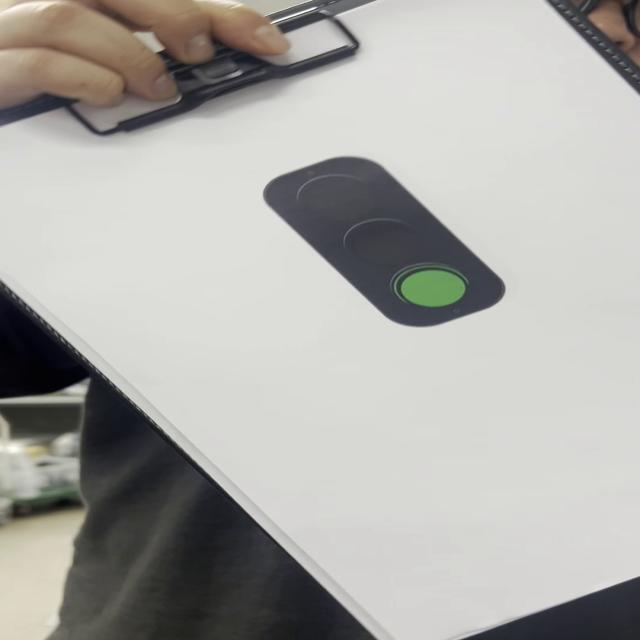green: (263, 156, 508, 332)
